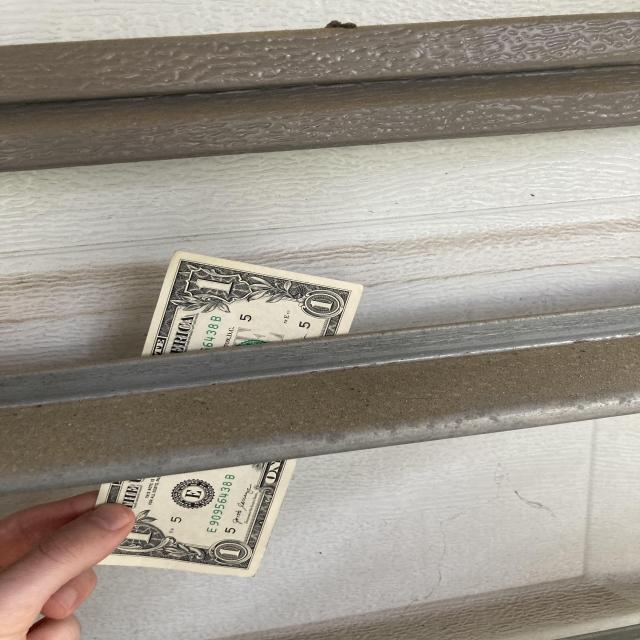one: (80, 249, 365, 579)
